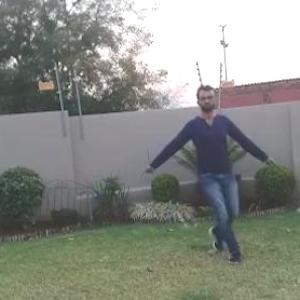land: (152, 88, 273, 255)
